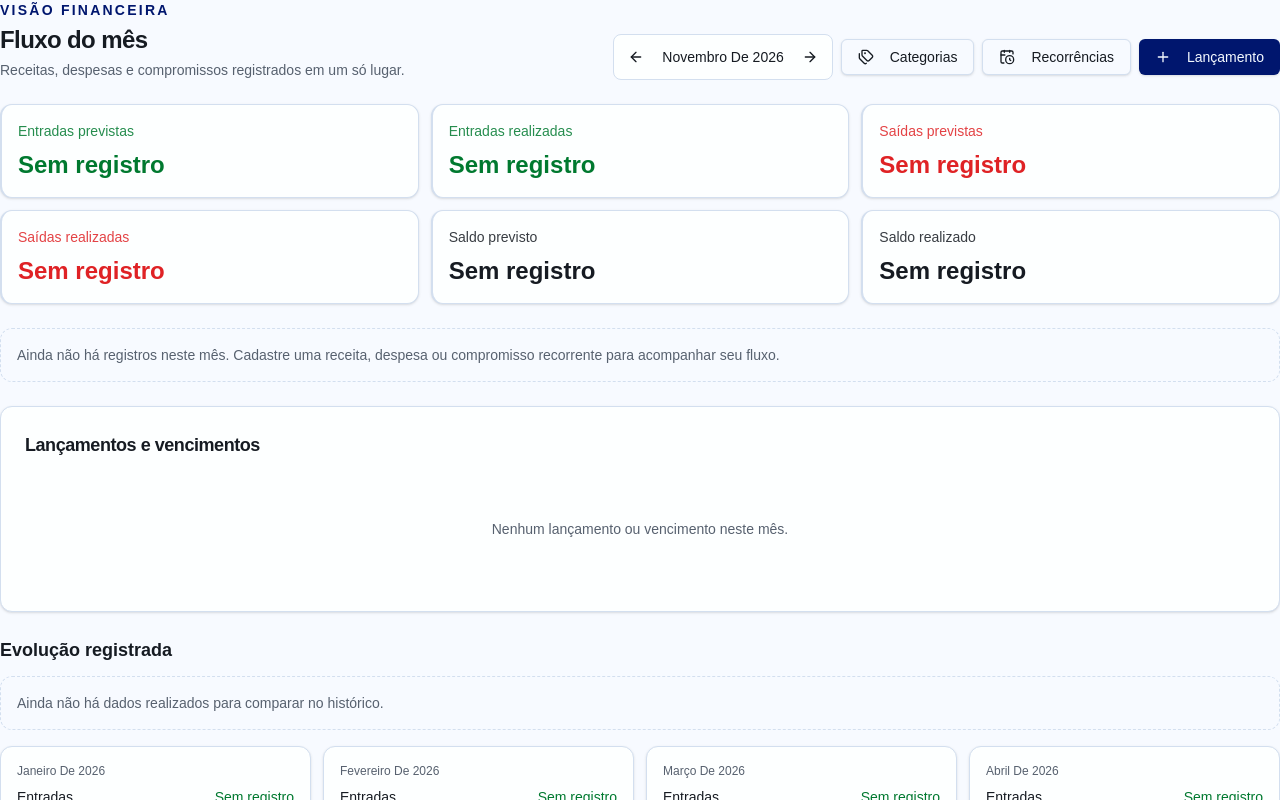
it: FinancialOverview › loads the selected month and opens recurring management on demand
The width and height of the screenshot is (1280, 800).
Expected: the text "Ainda não há registros neste mês" is shown, [17,347,780,363]
What coordinates should you click on to do the following:
click the button named "Mês anterior"
I would click on:
 (636, 57)
Its box is [618,39,654,75].
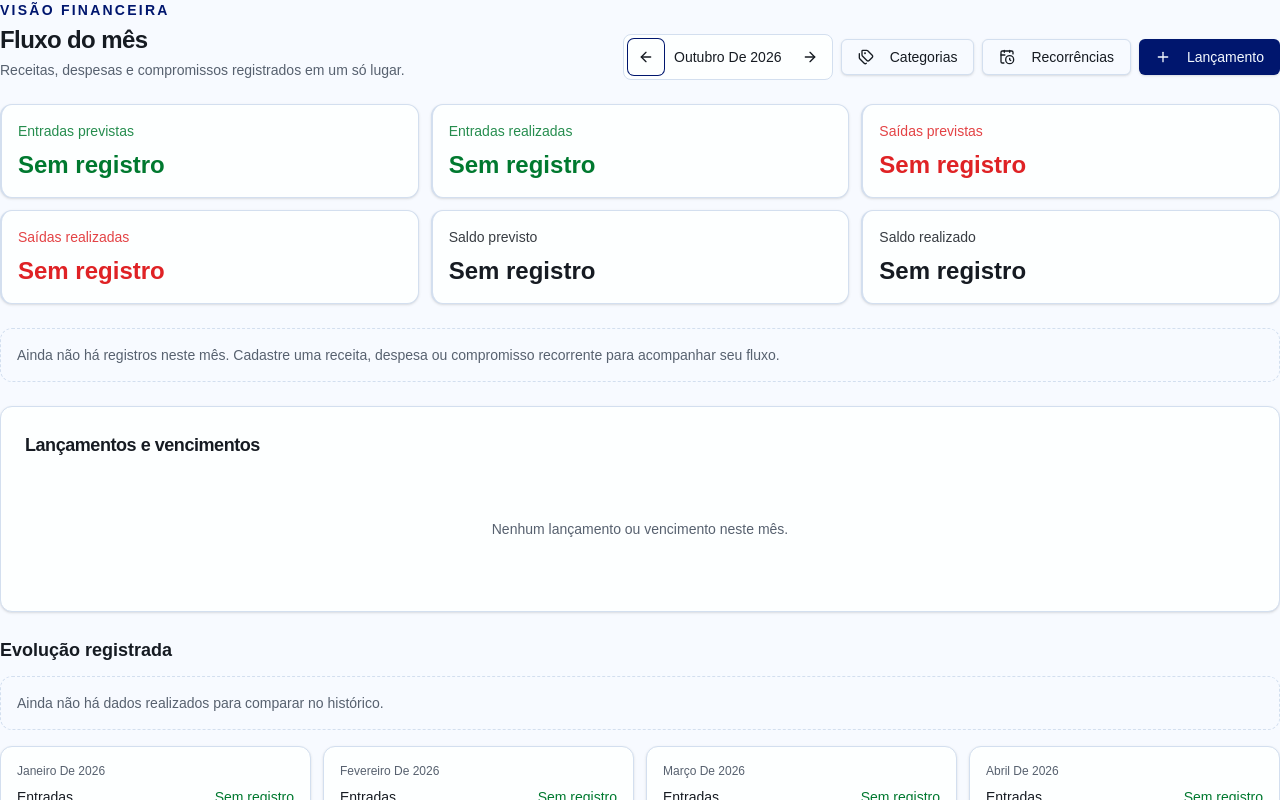
What coordinates should you click on to do the following:
click the button named "Próximo mês"
I would click on:
 (810, 57)
Its box is [792,39,828,75].
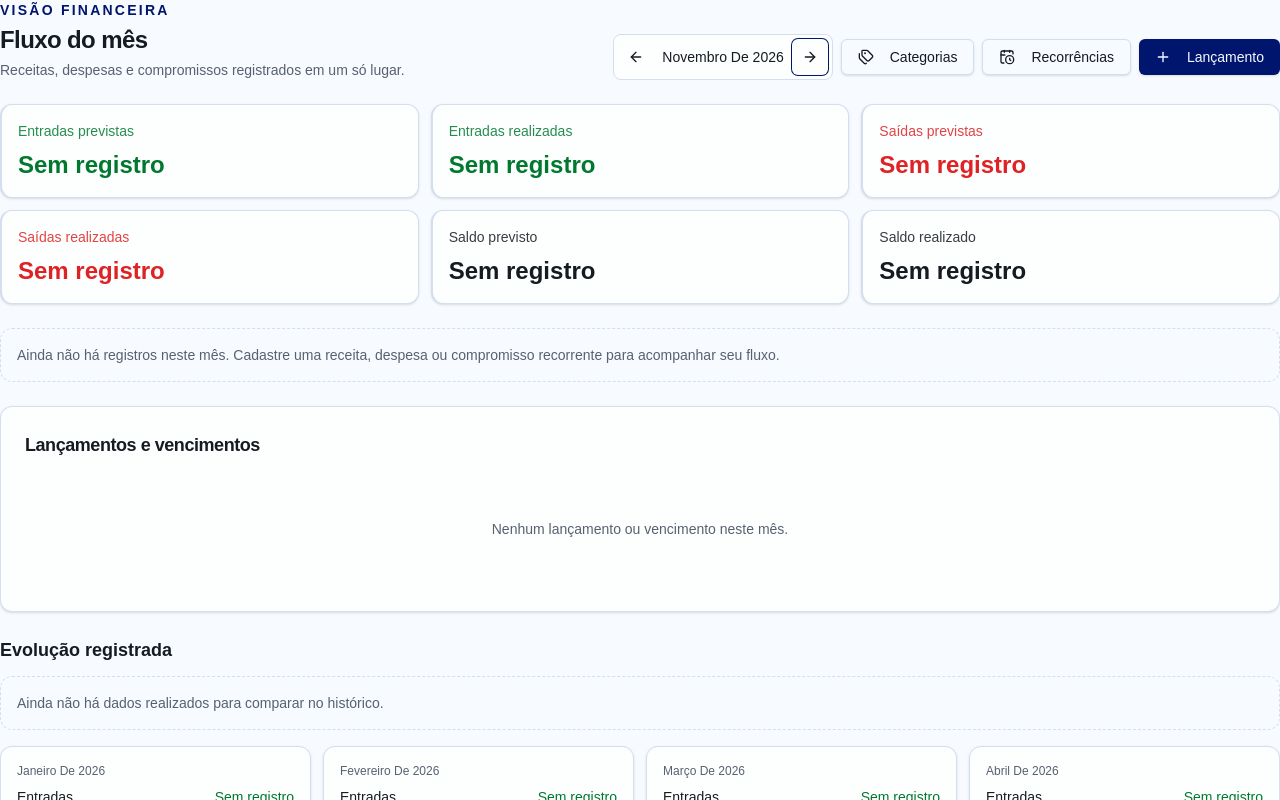
What coordinates should you click on to do the following:
click the button "Recorrências"
I would click on:
 (1057, 57)
Its box is [982,39,1131,75].
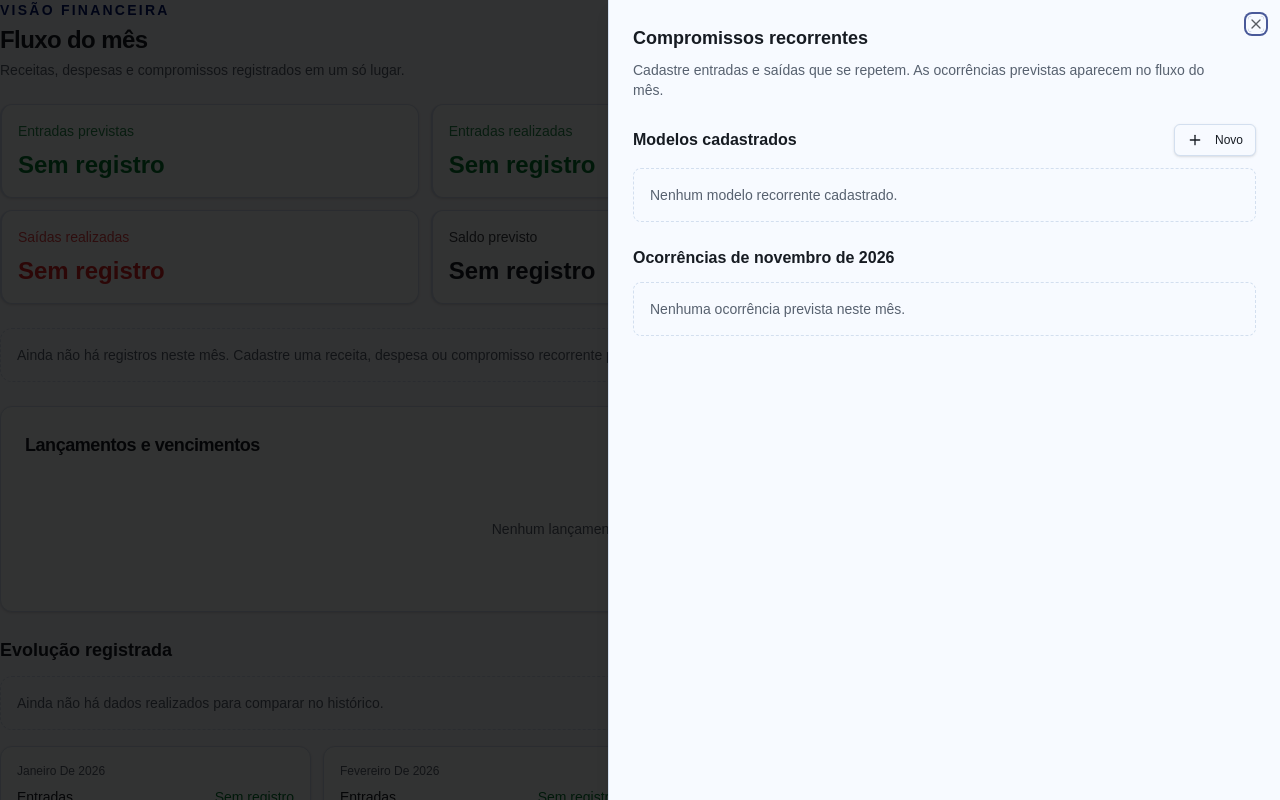
Result: the dialog "Compromissos recorrentes" is shown at [608,0,1279,799]
